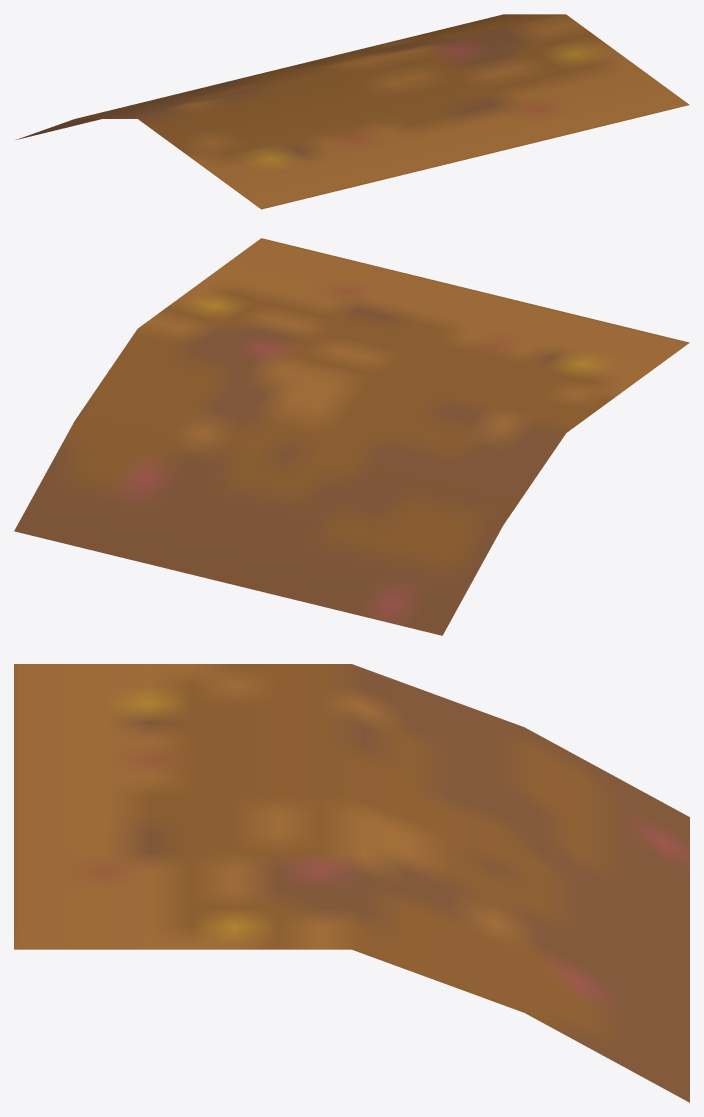
The model's file is ground_shore_v01.fbx.
3 renders of one model, top to bottom at view 1: azimuth 30°, elevation 25°; view 2: azimuth 150°, elevation 25°; view 3: azimuth 270°, elevation 25°, orthographic. The views are drawn at different scales.
Visible parts, largest first — view 1: ground_shore_v01; view 2: ground_shore_v01; view 3: ground_shore_v01.
Boxes of the visible parts, bbox=[...] form: ground_shore_v01: bbox=[15, 14, 689, 209]; ground_shore_v01: bbox=[14, 238, 689, 635]; ground_shore_v01: bbox=[14, 664, 689, 1102].
Size of the model in its own units: 200 by 50 by 200.
